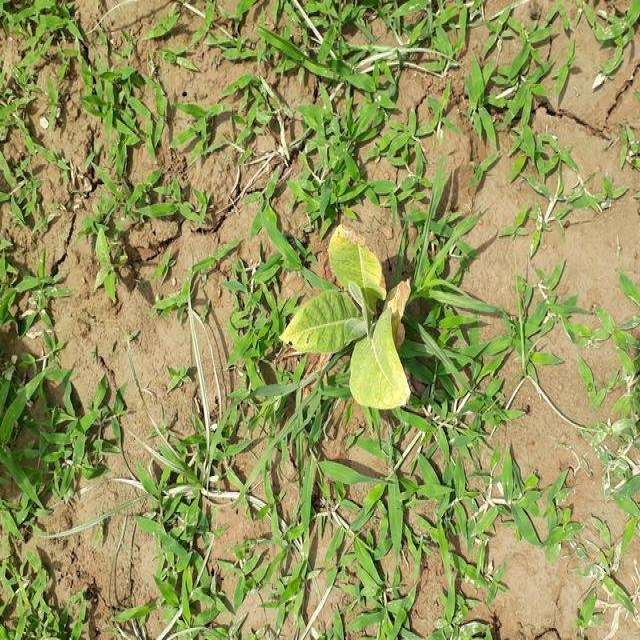crop: (283, 218, 425, 424)
